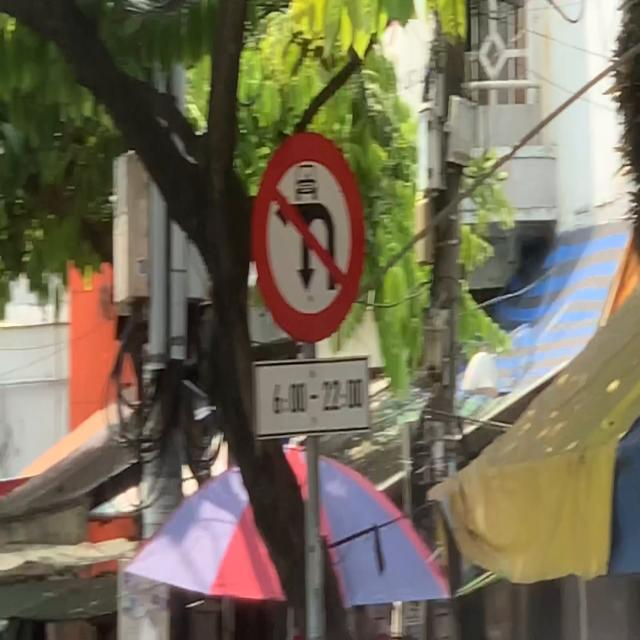Cam con lai: (250, 129, 366, 346)
